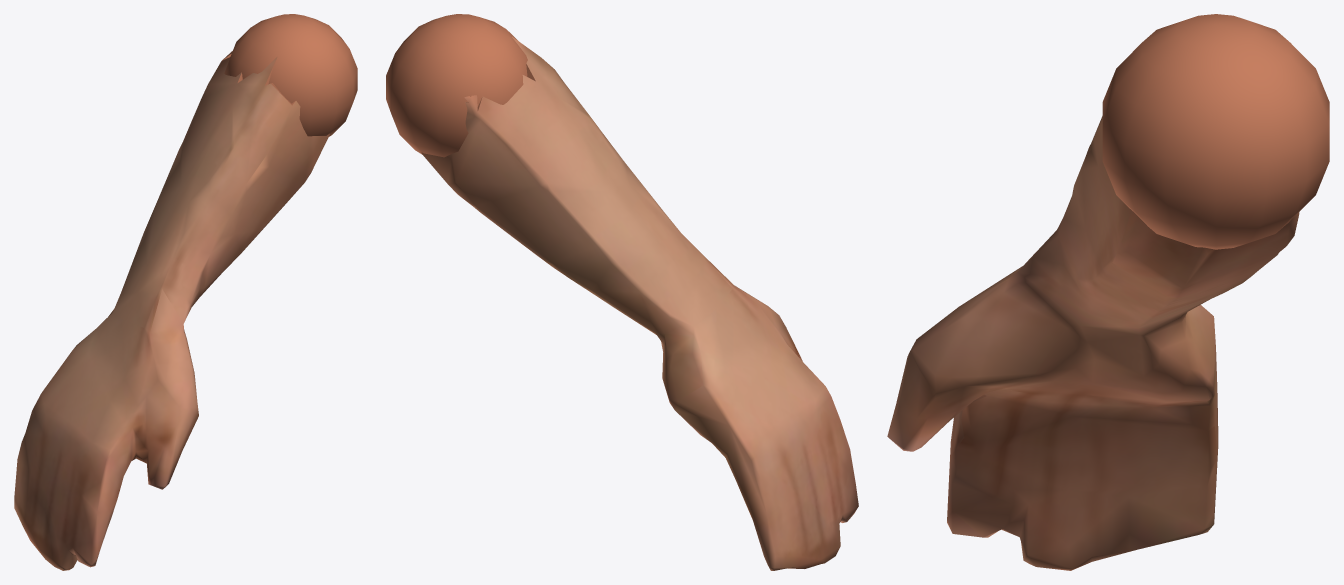
The model's file is hombre_antebrazo_der.obj.
3 views of the same model, side by side, from view 1: azimuth 30°, elevation 25°; view 2: azimuth 150°, elevation 25°; view 3: azimuth 270°, elevation 25° (orthographic). The views are drawn at different scales.
Parts seen in each view (by area): view 1: hombre_antebrazo_der; view 2: hombre_antebrazo_der; view 3: hombre_antebrazo_der.
Part boxes in pixels (x1,y1,x2,y2): hombre_antebrazo_der: (14,14,357,570); hombre_antebrazo_der: (386,14,858,570); hombre_antebrazo_der: (887,14,1329,570).
Bounding box in the file's own units: 0.3041 × 0.3773 × 0.1945.
